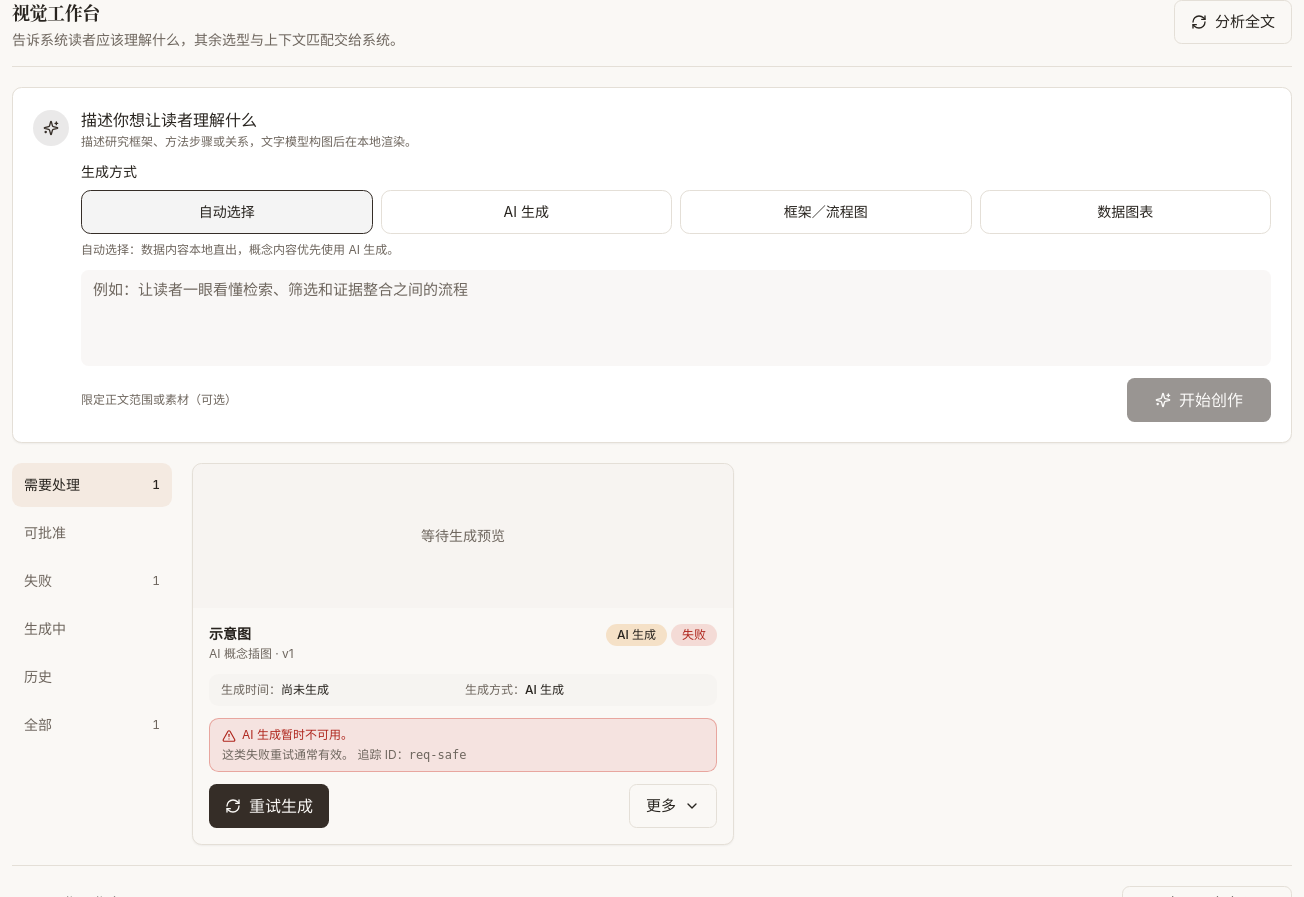
Scenario: 视觉工作台 › 历史选择依据和错误详情也不暴露供应商或 API
What coordinates should you click on to do the following:
click the button "更多"
I would click on:
 (673, 806)
Its box is [629,784,717,828].
(page scrolled)
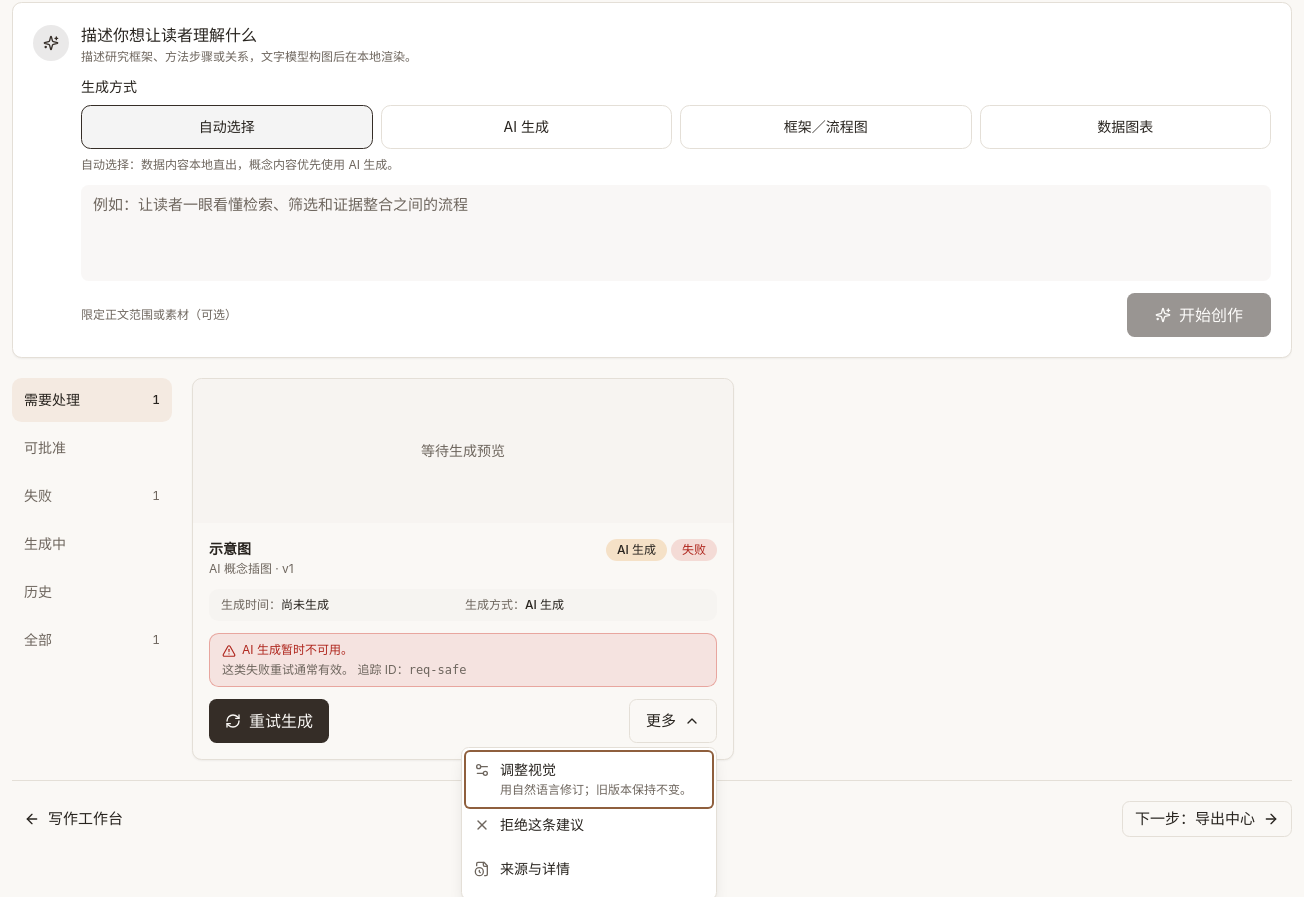
What coordinates should you click on to do the following:
click the menu item "来源与详情"
I would click on:
 (589, 872)
Its box is [466,850,712,894].
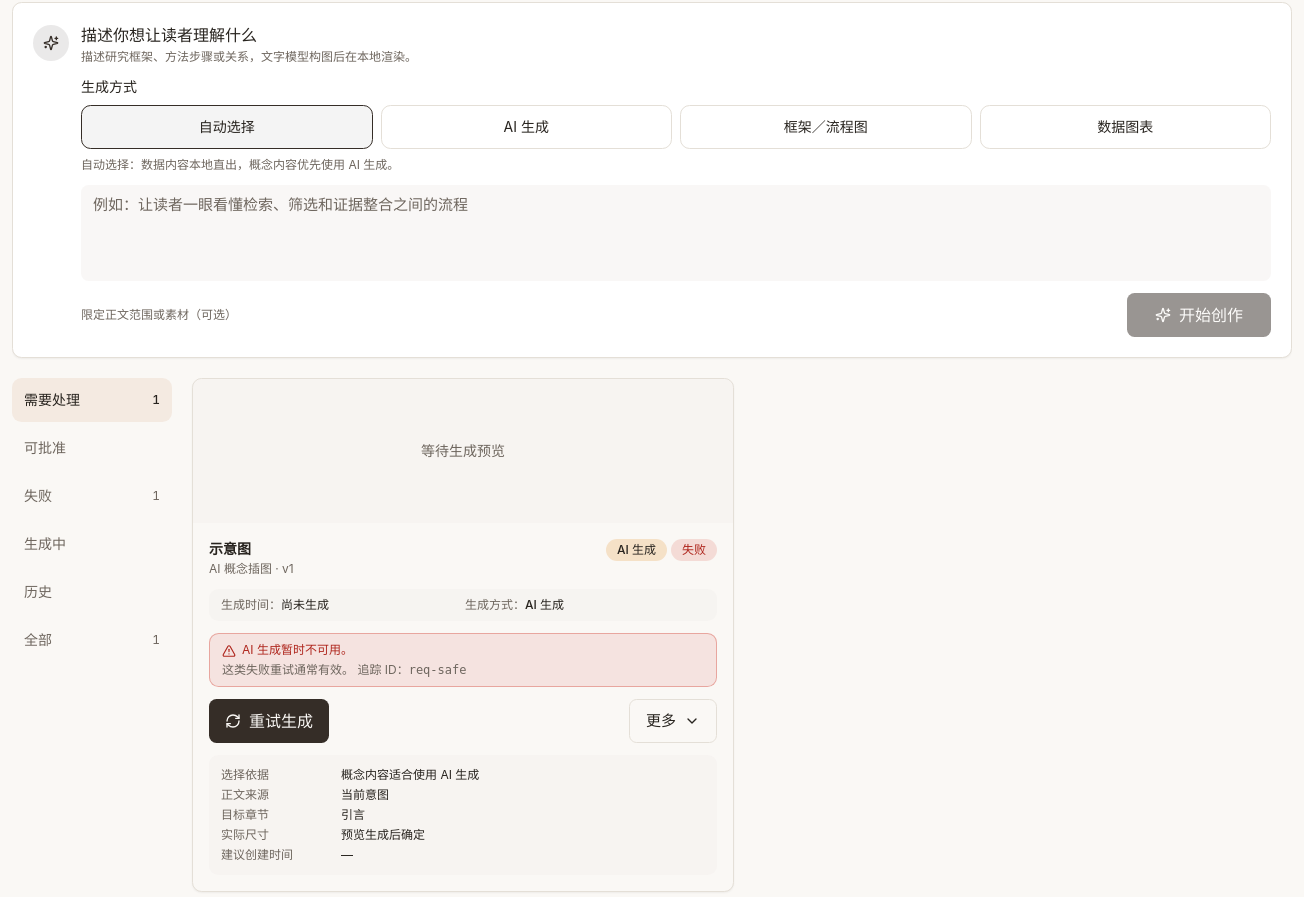
Check: the text "这类失败重试通常有效。 追踪 ID：req-safe" is shown, box [222,662,466,677]
Check: the text "概念内容适合使用 AI 生成" is shown, box [341,767,479,782]
